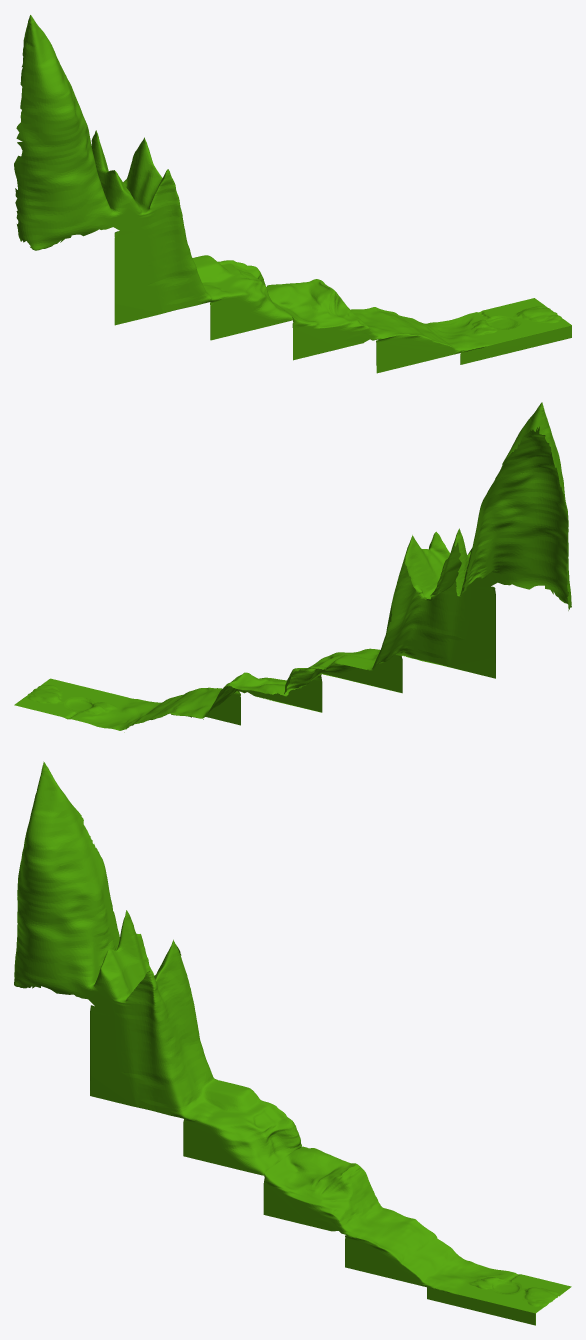
Rendered from portfolio.glb.
3 renders of one model, top to bottom at view 1: azimuth 30°, elevation 25°; view 2: azimuth 150°, elevation 25°; view 3: azimuth 330°, elevation 25°, orthographic. The views are drawn at different scales.
Visible parts, largest first — view 1: Cube.001; view 2: Cube.001; view 3: Cube.001.
Part boxes in pixels (x1,y1,x2,y2): Cube.001: [14, 15, 571, 373]; Cube.001: [14, 402, 571, 732]; Cube.001: [14, 761, 571, 1325].
Size of the model in its own units: 261 by 200 by 35.51.
